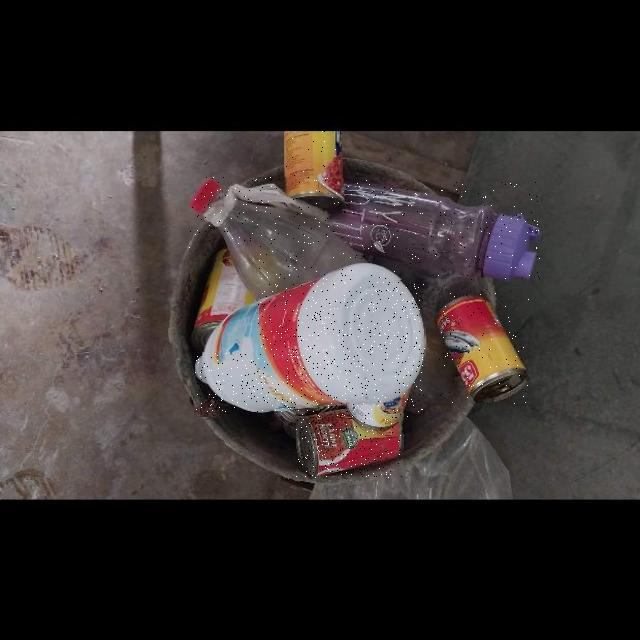metal: (437, 294, 529, 404), (296, 410, 403, 478), (191, 244, 258, 352), (285, 130, 344, 214), (346, 385, 412, 430)
plastic: (196, 263, 425, 412), (190, 177, 368, 300), (327, 182, 540, 280)
